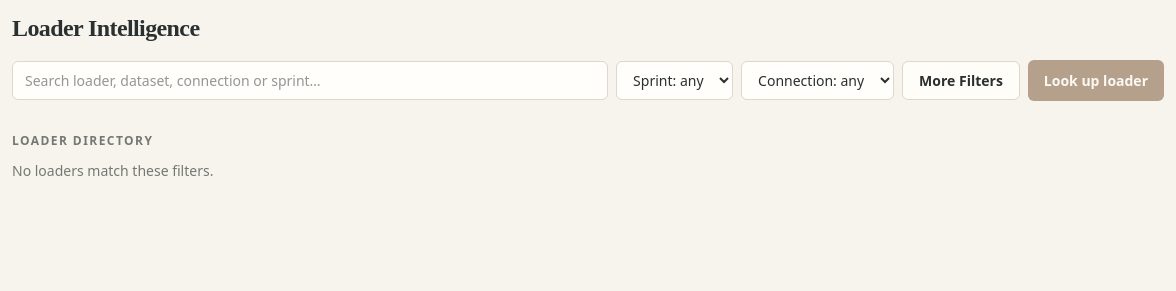
Loader Intelligence (simple panel, 2026-10-03 spec) › shows a backend error without crashing
Type "AnyLoader" into the field named "Loader name".
click(310, 80); type("AnyLoader")  # box 12,61 -> 608,100
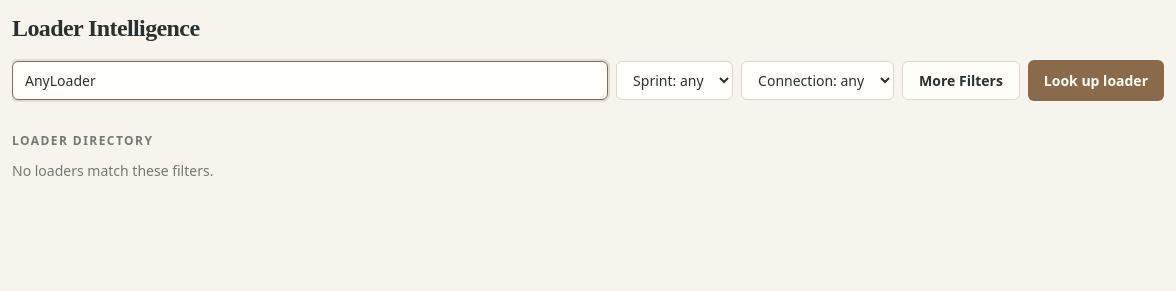
Click the button "Look up loader".
click(1096, 80)  # box 1028,60 -> 1164,101
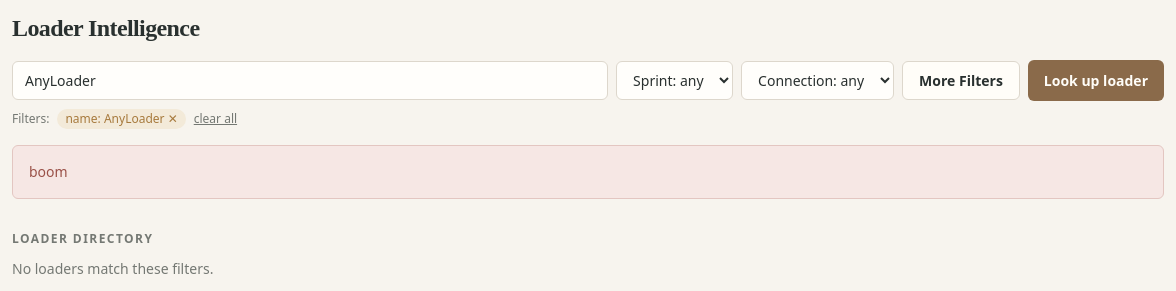
Expected: the message "boom" is shown, 12,145 -> 1164,199
Expected: the message reads "boom", 29,162 -> 68,181
